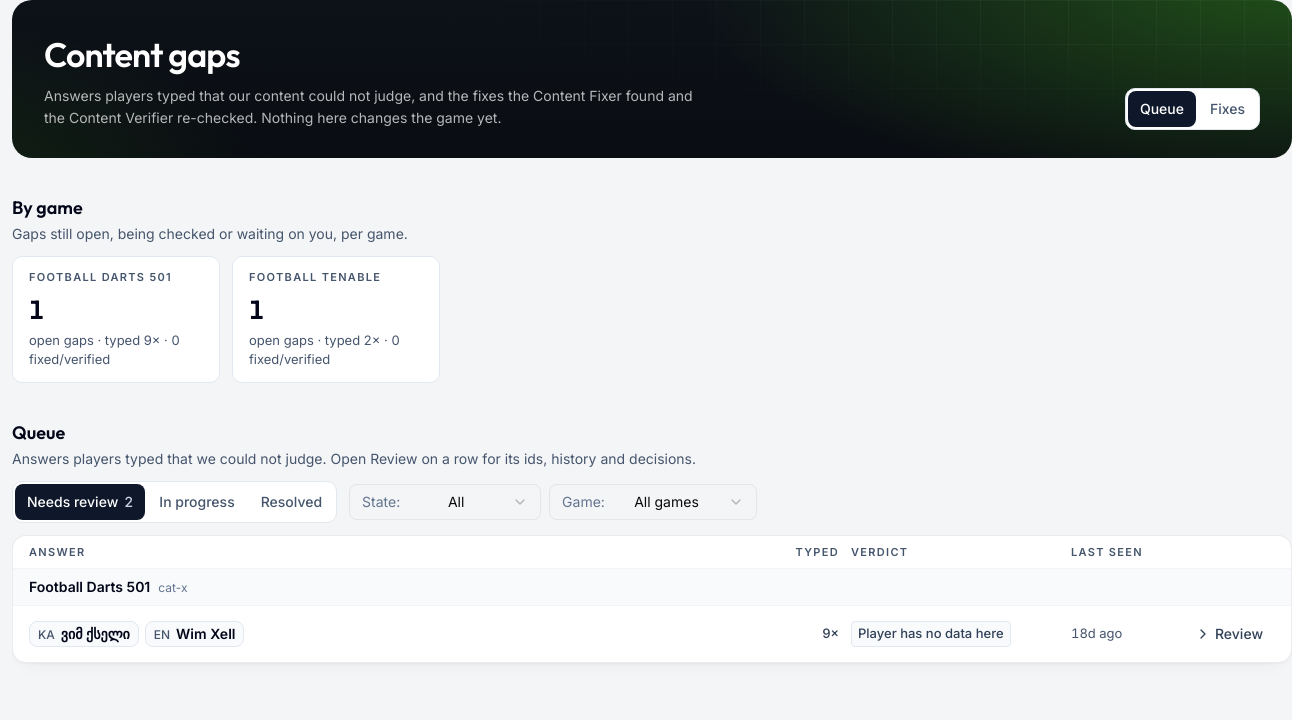
the game filter is a named Select built from the summary, and narrows the list
Step 1. Press ArrowDown in the dropdown named "Filter by game", box [549,484,757,520]
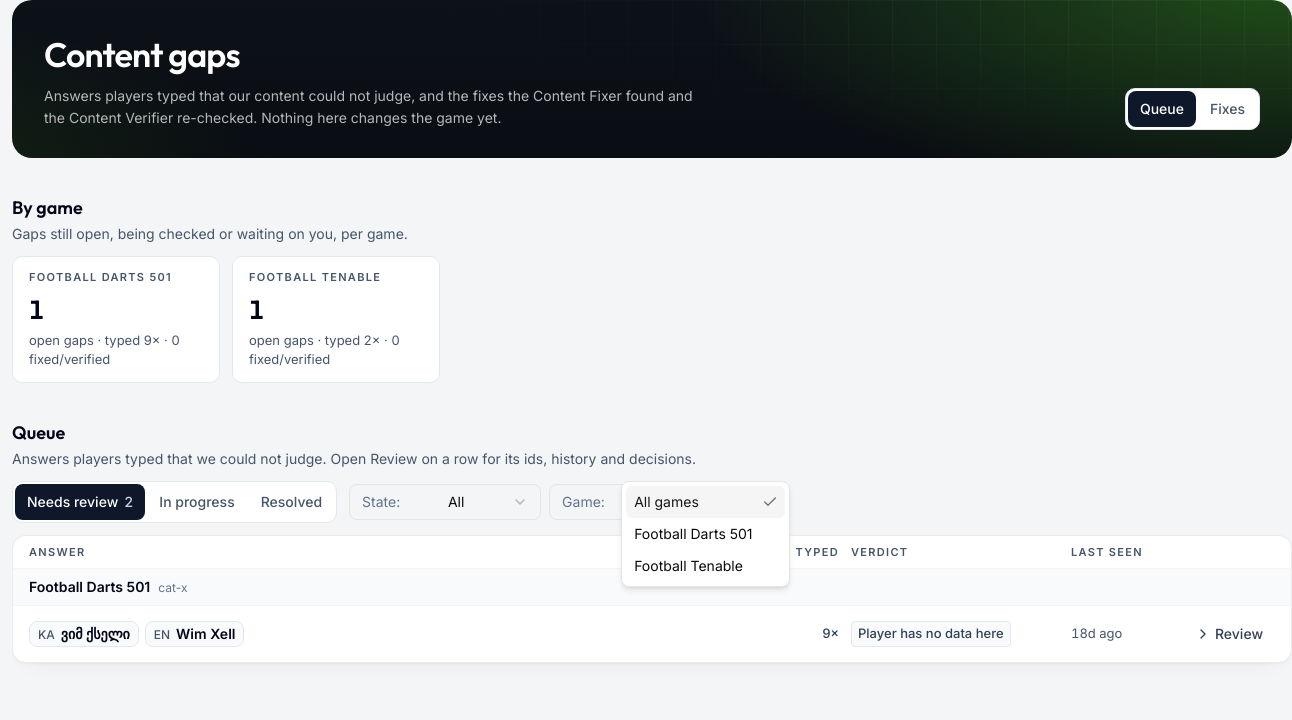
Expected: the options read "All games", "Football Darts 501", "Football Tenable", in this order
Step 2. Click the option "Football Tenable" → [688, 565], box [634,556,743,574]
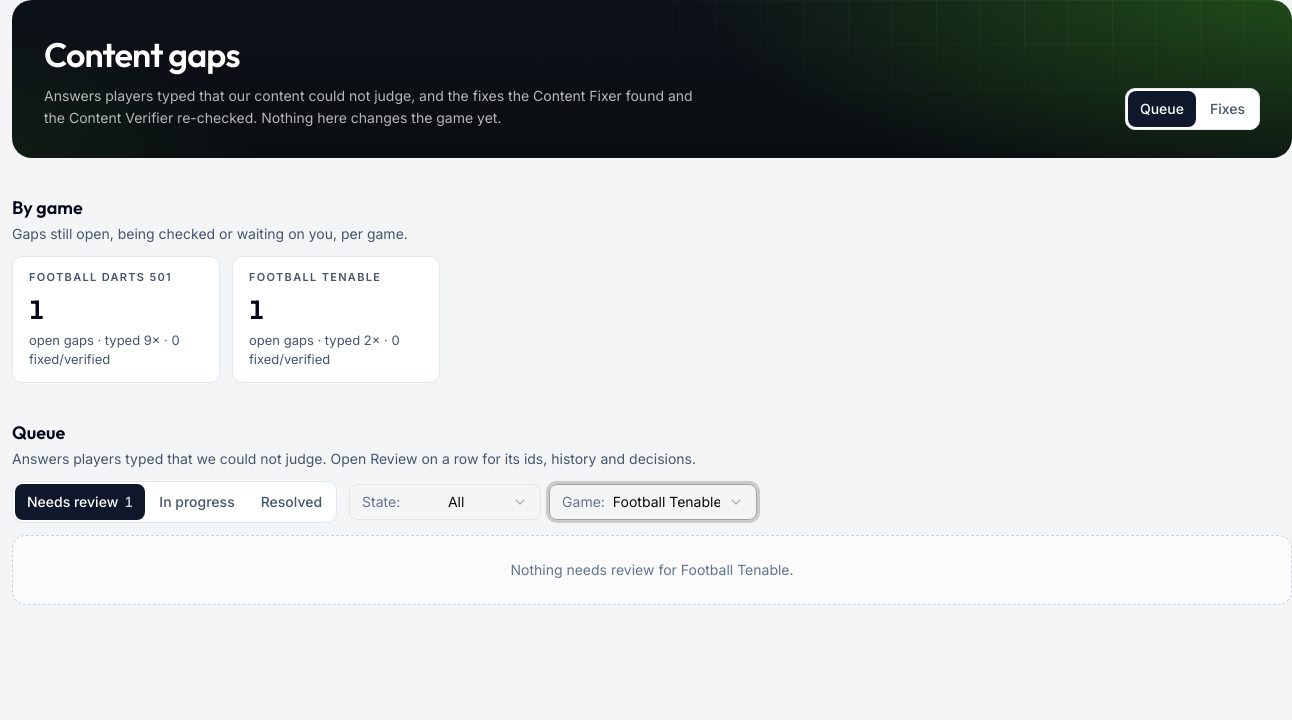
Expected: the text "Nothing needs review for Football Tenable." is shown, [12,534,1291,604]
